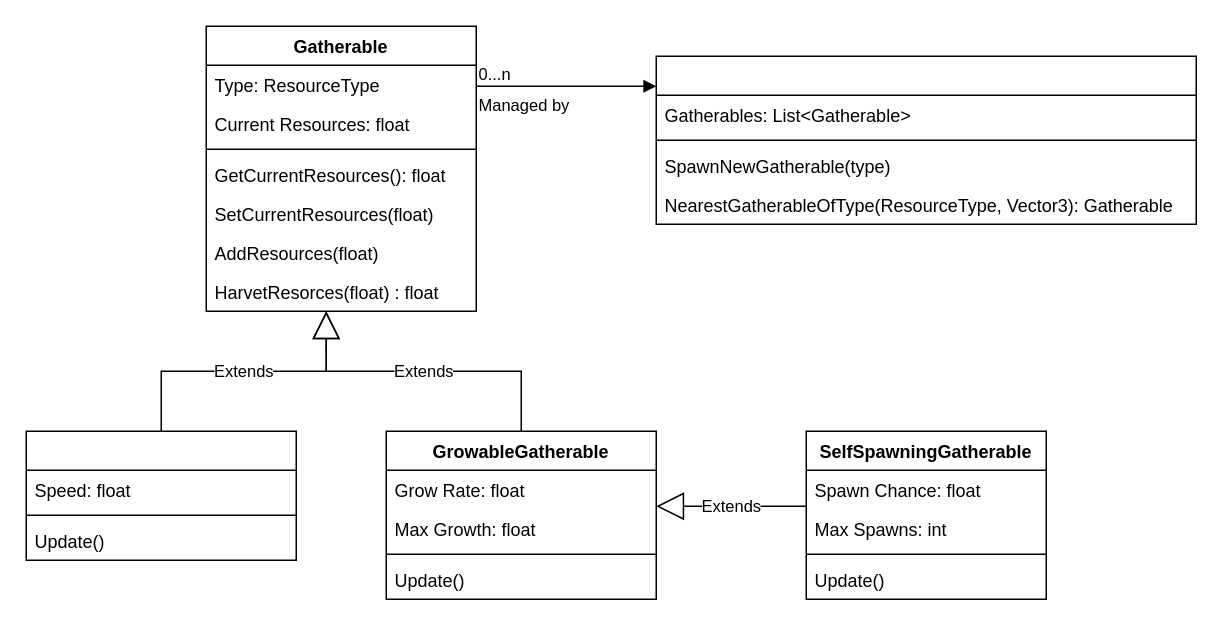
This 1223x630 diagram has some shape labels left out. Here are the shapes that lost their labels. From the top down, the box of each, then its label:
(655, 55, 1196, 224): NaturalWorldManager
(25, 430, 296, 560): MobileGatherable
